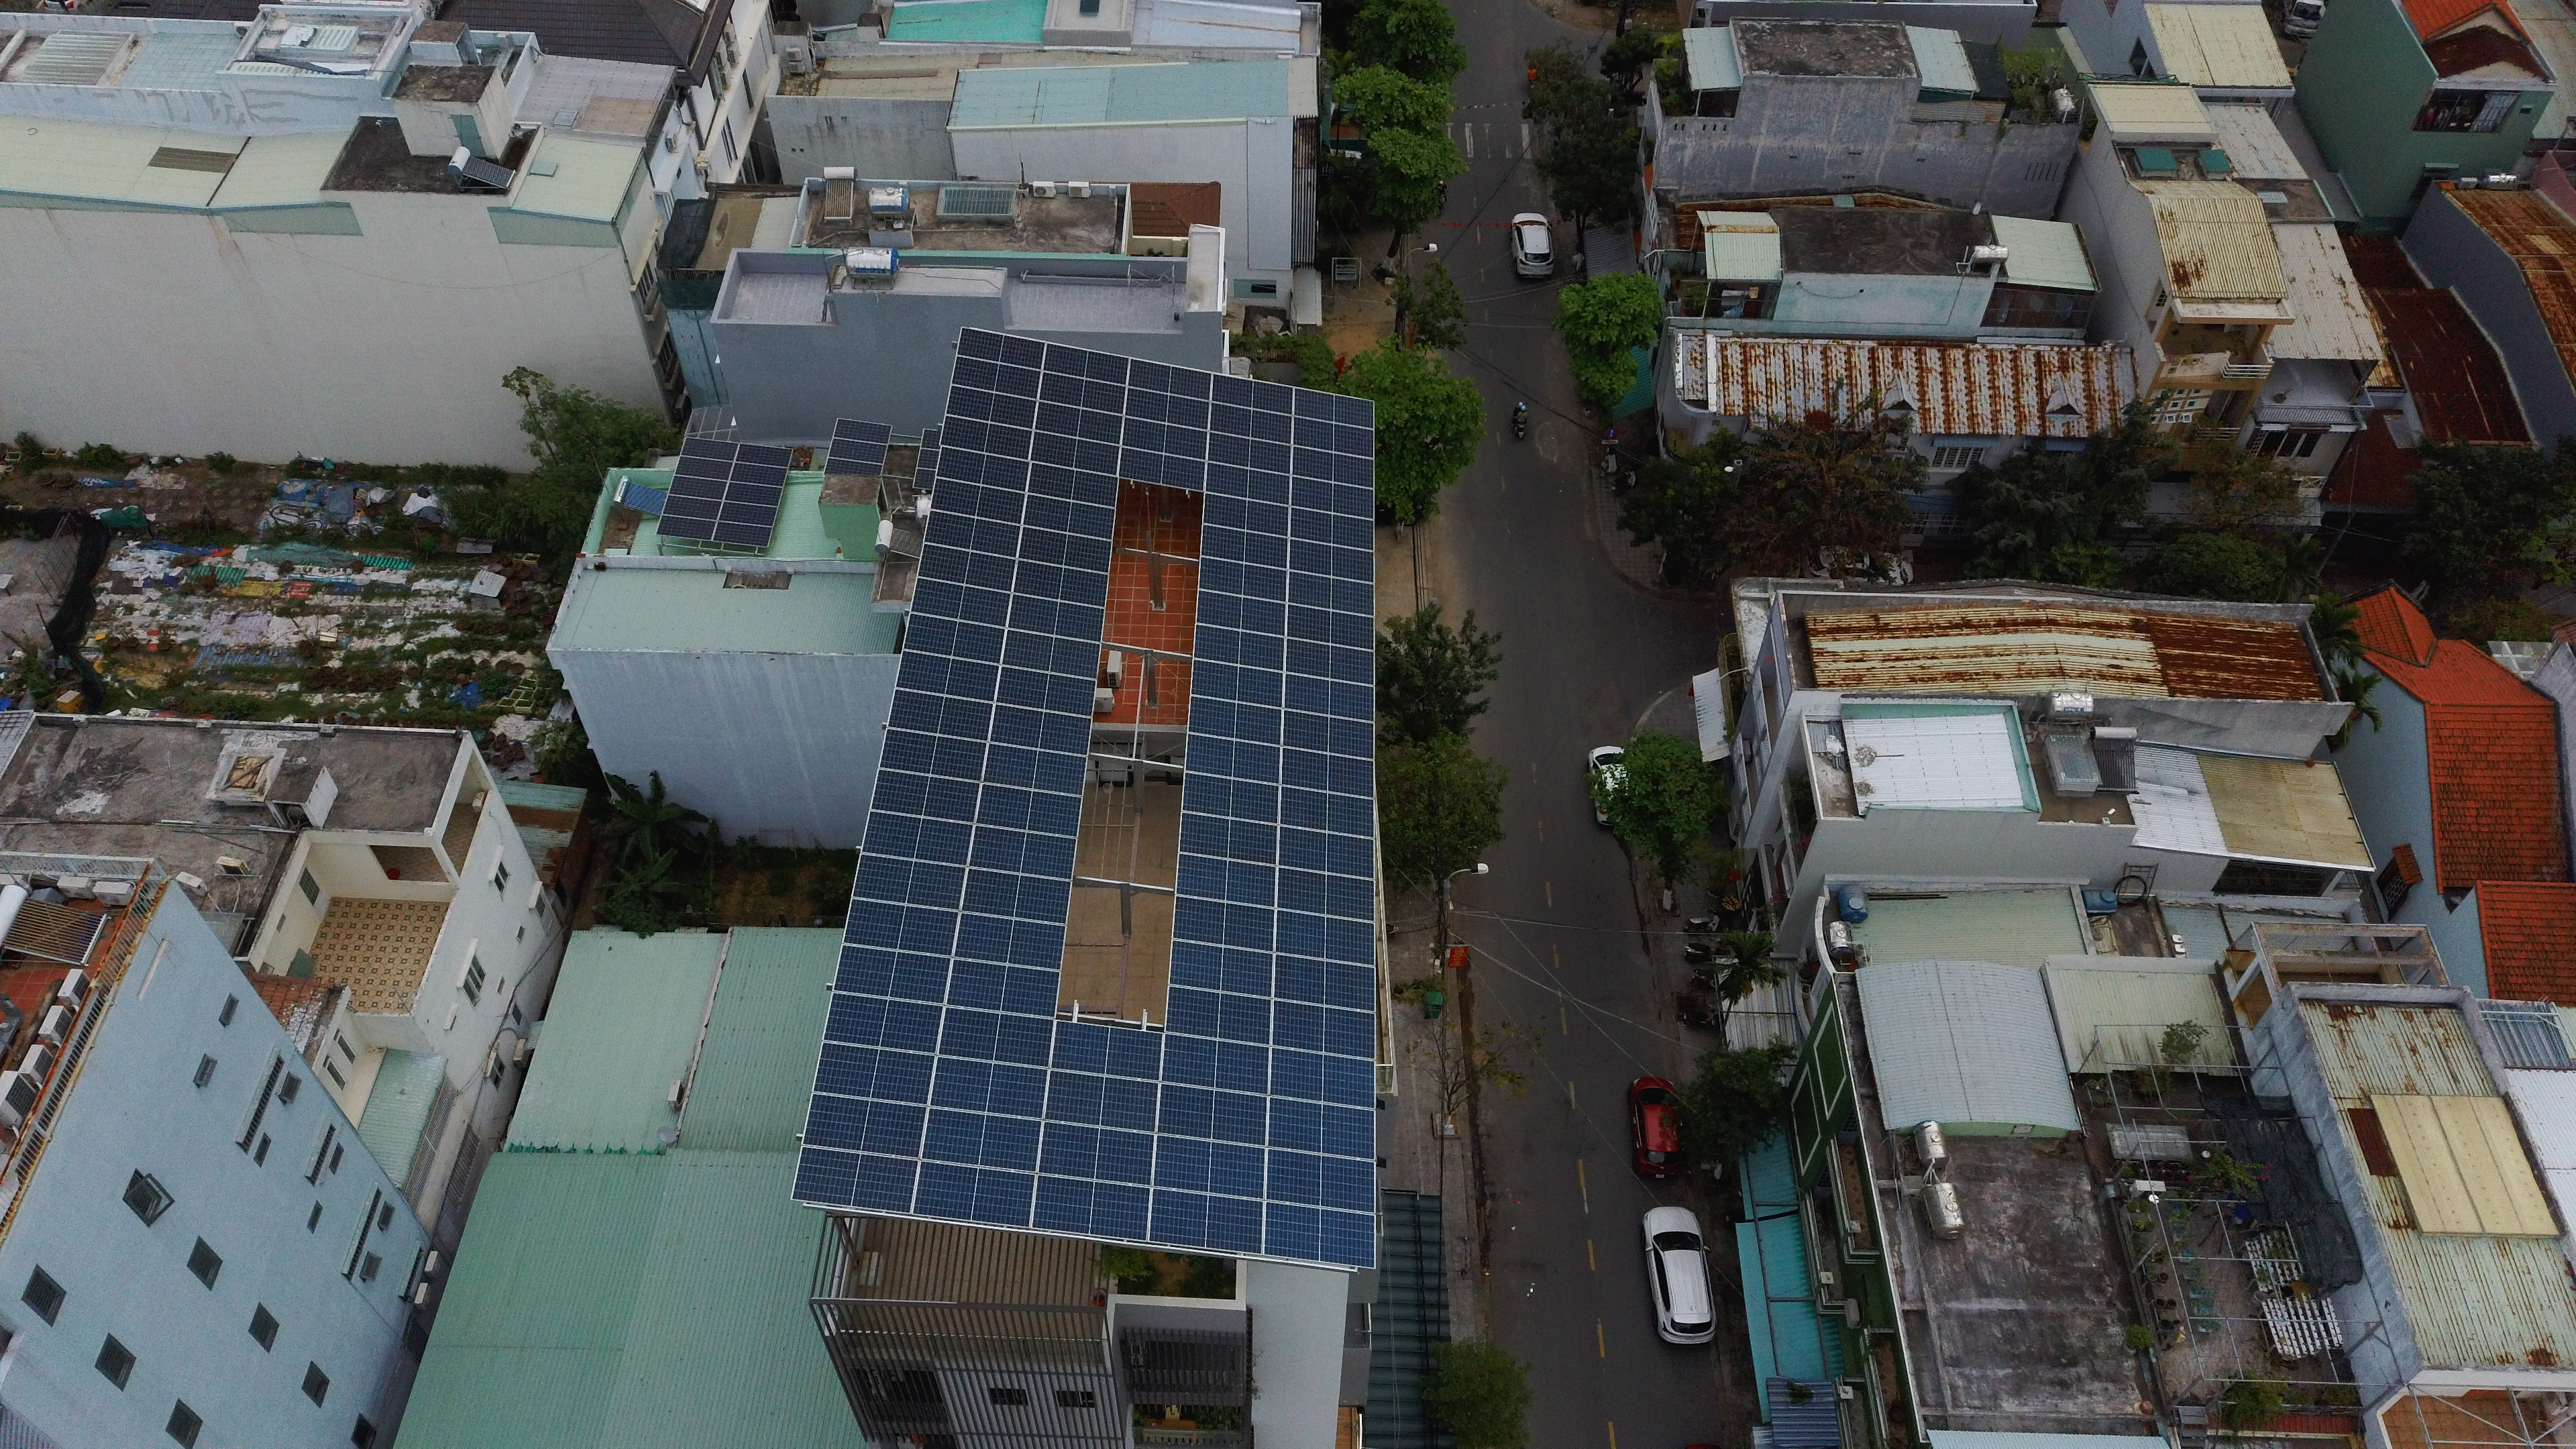solar: (790, 1143, 919, 1216), (910, 1159, 1038, 1230), (1028, 1169, 1151, 1243), (820, 989, 945, 1060), (810, 1040, 934, 1111), (802, 1091, 926, 1163), (926, 1054, 1052, 1122), (916, 1105, 1042, 1173), (1260, 1195, 1375, 1267), (1046, 1018, 1167, 1087), (1040, 1065, 1161, 1134), (1034, 1118, 1155, 1187), (1148, 1130, 1268, 1199), (1146, 1189, 1265, 1259), (1154, 1079, 1272, 1148), (1266, 1091, 1377, 1162), (1264, 1144, 1375, 1215), (841, 895, 958, 959), (832, 945, 949, 1009), (949, 909, 1065, 971), (943, 955, 1059, 1017), (934, 1004, 1051, 1066), (874, 724, 989, 786), (866, 766, 981, 827), (858, 809, 973, 870), (851, 853, 967, 914), (1267, 953, 1378, 1016), (1266, 995, 1377, 1058), (1265, 1045, 1376, 1108), (1157, 1032, 1272, 1093), (959, 865, 1071, 926), (887, 686, 994, 748), (1273, 906, 1377, 968), (1173, 849, 1280, 908), (1168, 893, 1275, 953), (1169, 938, 1277, 998), (1165, 984, 1272, 1044), (979, 744, 1089, 799), (973, 782, 1083, 837), (965, 823, 1075, 878), (1189, 619, 1289, 680), (1187, 653, 1287, 714), (1183, 692, 1283, 753), (1182, 729, 1282, 789), (902, 609, 1004, 667), (894, 647, 997, 704), (1181, 770, 1280, 829), (1177, 811, 1276, 870), (1004, 594, 1108, 647), (998, 629, 1103, 682), (993, 664, 1097, 717), (988, 703, 1093, 756), (922, 507, 1023, 560), (916, 541, 1017, 594), (910, 576, 1011, 629), (1279, 748, 1375, 802), (1278, 784, 1375, 839), (1277, 826, 1373, 881), (1273, 866, 1370, 920), (1285, 602, 1378, 657), (1282, 633, 1375, 688), (1281, 668, 1374, 723), (1280, 706, 1373, 761), (938, 411, 1036, 461), (934, 443, 1031, 493), (929, 478, 1026, 528), (954, 325, 1049, 372), (951, 356, 1045, 404), (946, 383, 1040, 431), (1039, 341, 1134, 388), (1036, 372, 1131, 419), (1032, 402, 1127, 449), (1028, 430, 1123, 478), (1023, 463, 1118, 511), (1022, 493, 1117, 541), (1016, 525, 1111, 572), (1012, 559, 1106, 606), (1122, 356, 1216, 404), (1121, 386, 1216, 433), (1118, 415, 1212, 462), (1116, 445, 1210, 493), (1204, 372, 1299, 420), (1202, 400, 1297, 447), (1199, 429, 1294, 476), (1200, 463, 1295, 511), (1195, 492, 1290, 540), (1195, 525, 1290, 573), (1194, 559, 1289, 606), (1193, 590, 1288, 638), (1288, 386, 1377, 431), (1289, 415, 1377, 460), (1288, 445, 1377, 490), (1287, 477, 1376, 522), (1286, 509, 1375, 554), (1288, 538, 1377, 583), (1286, 571, 1375, 616), (829, 417, 893, 447), (826, 435, 890, 466), (675, 435, 741, 464), (672, 453, 737, 482), (665, 473, 731, 502), (661, 494, 727, 523), (653, 513, 719, 542), (727, 443, 793, 472), (726, 460, 792, 489), (720, 482, 786, 511), (714, 501, 780, 530), (710, 515, 775, 544), (820, 455, 882, 478), (919, 425, 945, 453), (915, 444, 941, 473), (910, 462, 936, 490)
